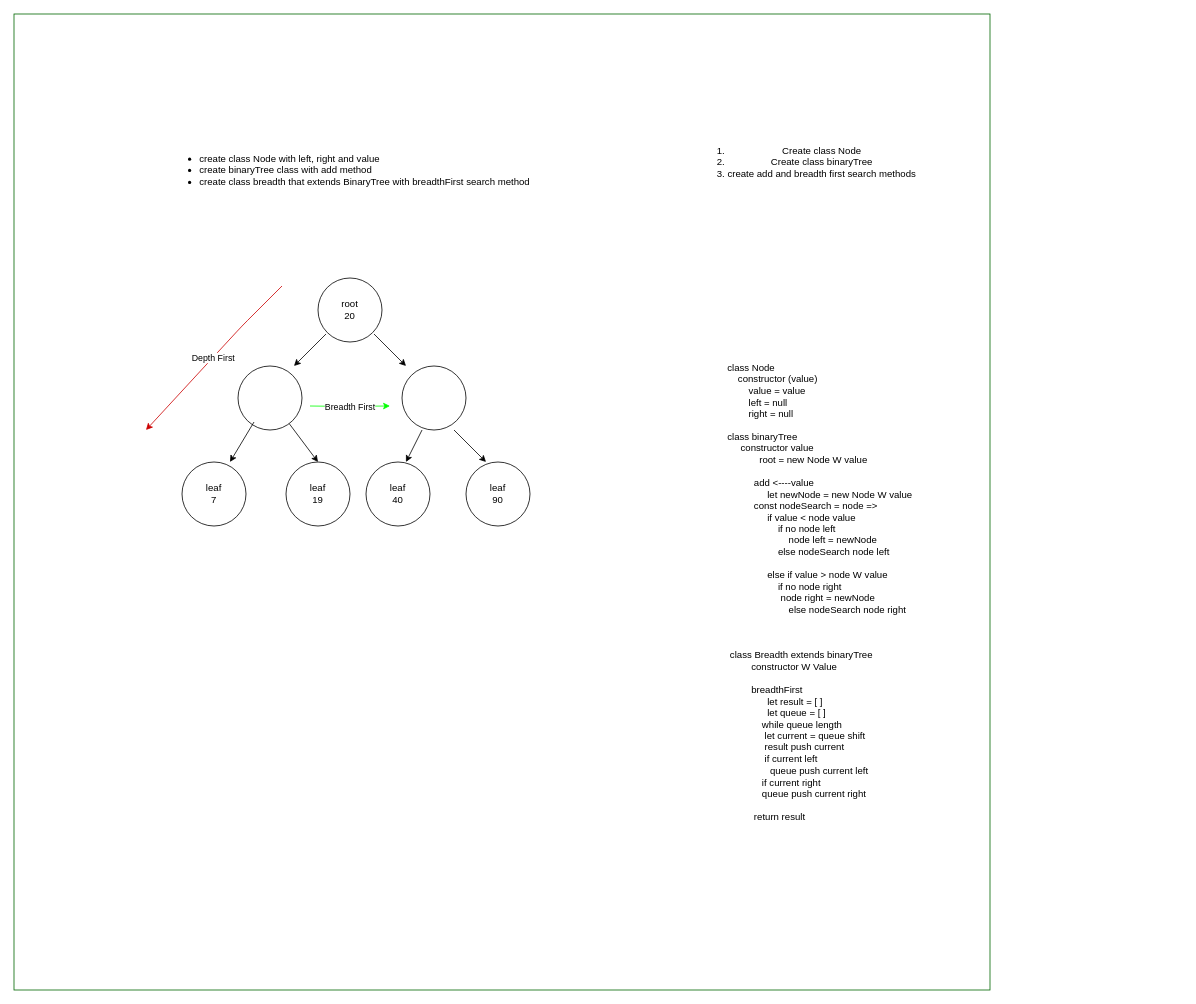
Image size: 1196x1004. Some labels were removed from this diagram. The box of each missing label's shape, as (x1, y1, x2, y2) in pixels:
child 15: (237, 365, 302, 430)
child 50: (401, 365, 466, 430)
